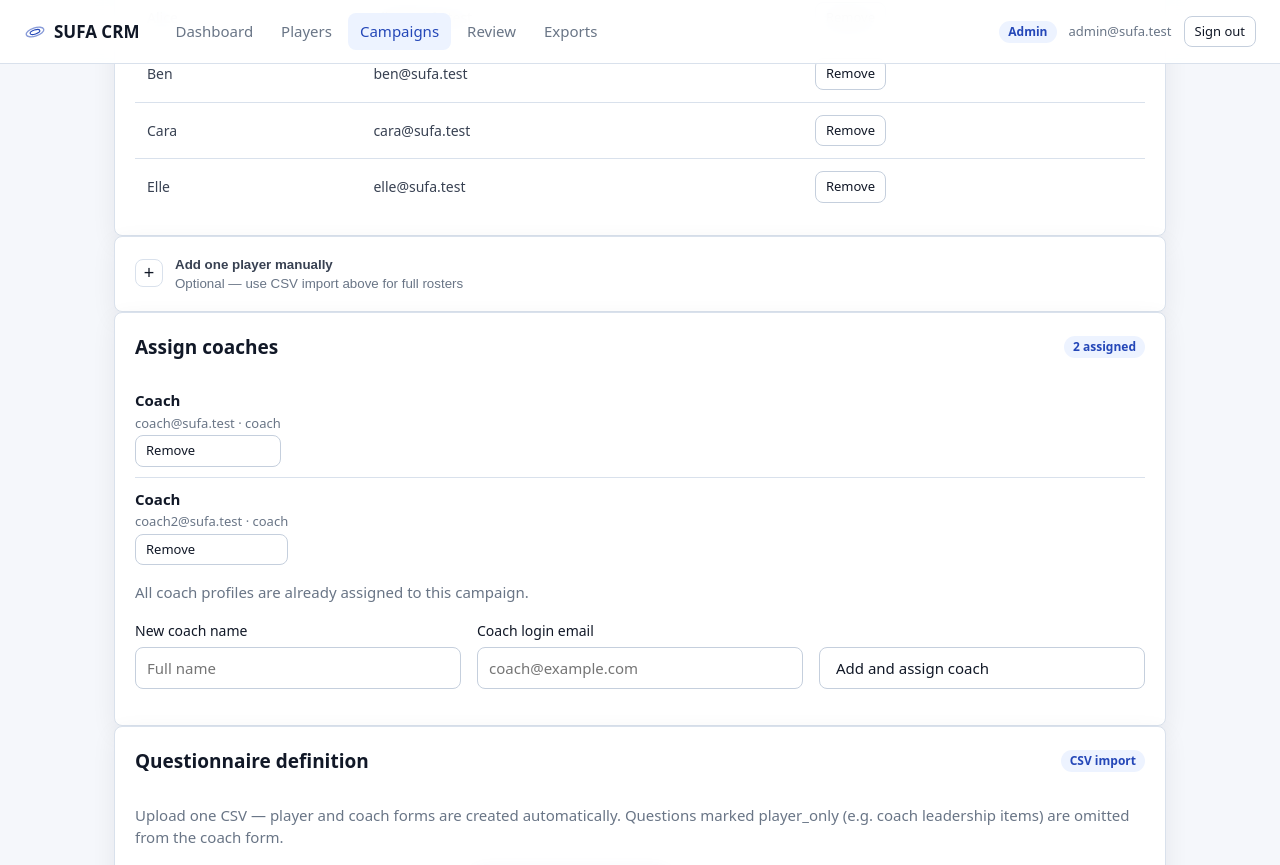
Scenario: App routing › lets an admin remove a coach assignment and reassign
The width and height of the screenshot is (1280, 865).
(page scrolled)
Click the button "Remove" below "coach@sufa.test" at (208, 451), box [135,435,281,466]
(page scrolled)
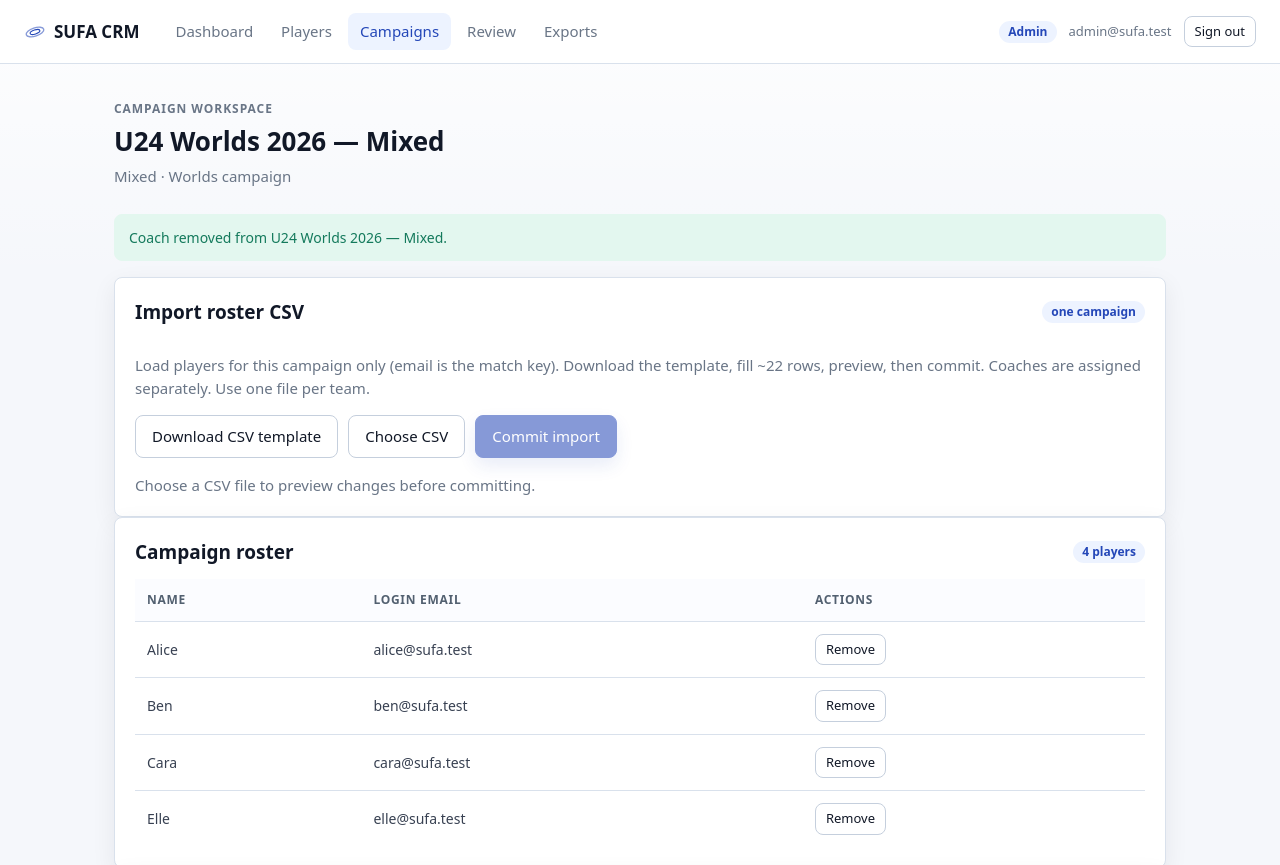
Check: the text "Coach removed from U24 Worlds 2026 — Mixed." is shown, box [114,214,1166,260]
